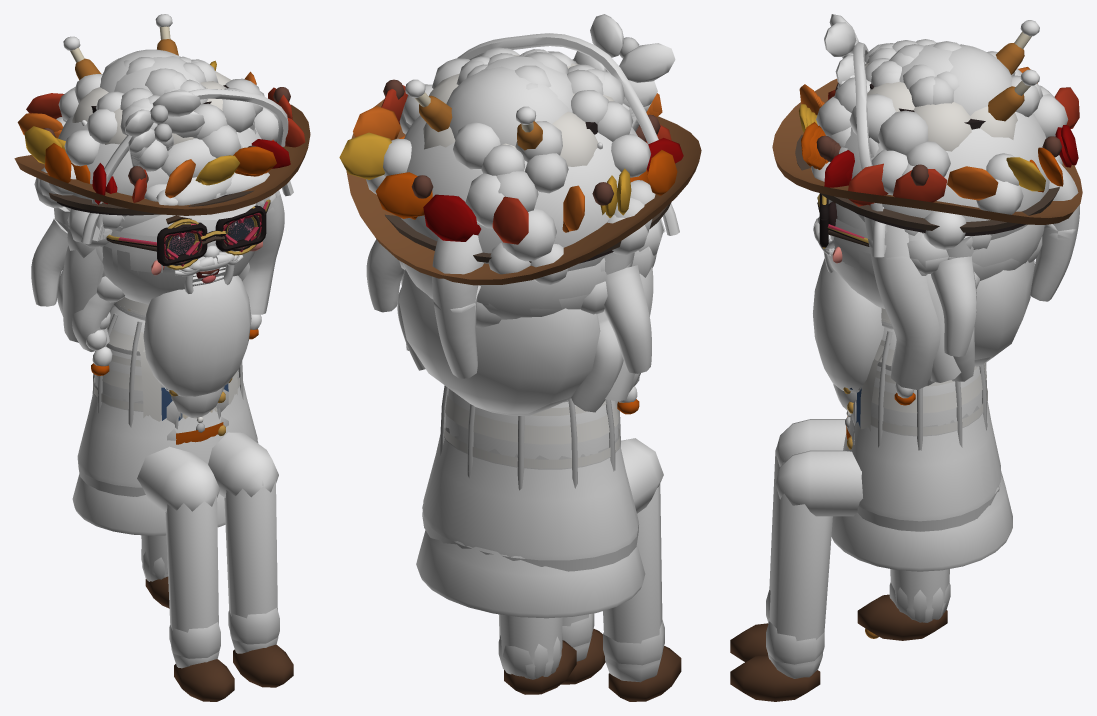
The model's file is avatar.glb.
The picture shows the model from 3 angles, left to right: view 1: azimuth 30°, elevation 25°; view 2: azimuth 150°, elevation 25°; view 3: azimuth 270°, elevation 25°; orthographic projection. The views are drawn at different scales.
Parts seen in each view (by area): view 1: legs_sit_pants, beard_long, hair_m_afro, body_dress, hat_leaves__m_afro, hat_cowboy, skirt, hat_bow__m_afro, hat_chef, body_apron, glasses_shades, hair_f_sideswept (+31 smaller); view 2: hair_m_afro, body_dress, hair_f_wavy, legs_sit_pants, skirt, hat_leaves__m_afro, hat_cowboy, hair_f_wavy_hat, hat_bow__m_afro, hair_f_puff, leg_pants, hat_chef (+20 smaller); view 3: legs_sit_pants, hair_m_afro, body_dress, beard_long, skirt, hat_leaves__m_afro, hat_cowboy, leg_pants, hair_f_sideswept, hat_chef, hair_f_wavy, hair_f_sideswept_hat (+23 smaller).
Boxes of the visible parts, box(x1,y1,x2,y2) form: legs_sit_pants: box(137, 432, 293, 701); beard_long: box(102, 246, 255, 417); hair_m_afro: box(34, 56, 278, 216); body_dress: box(77, 302, 257, 496); hat_leaves__m_afro: box(17, 60, 305, 204); hat_cowboy: box(14, 104, 310, 215); skirt: box(72, 474, 225, 535); hat_bow__m_afro: box(92, 88, 288, 231); hat_chef: box(72, 56, 231, 144); body_apron: box(93, 331, 240, 444); glasses_shades: box(157, 205, 266, 266); hair_f_sideswept: box(173, 172, 284, 314); hair_m_afro: box(366, 47, 655, 284); body_dress: box(422, 427, 638, 571); hair_f_wavy: box(397, 246, 656, 413); legs_sit_pants: box(561, 438, 681, 701); skirt: box(416, 530, 645, 618); hat_leaves__m_afro: box(339, 79, 683, 244); hat_cowboy: box(346, 99, 701, 285); hair_f_wavy_hat: box(397, 248, 655, 411); hat_bow__m_afro: box(457, 14, 675, 143); hair_f_puff: box(446, 66, 569, 146); leg_pants: box(498, 614, 576, 694); hat_chef: box(423, 55, 613, 170); legs_sit_pants: box(730, 419, 862, 701); hair_m_afro: box(816, 39, 1068, 249); body_dress: box(843, 321, 1002, 531); beard_long: box(813, 218, 884, 413); skirt: box(831, 471, 1012, 571); hat_leaves__m_afro: box(816, 67, 1079, 206); hat_cowboy: box(772, 78, 1082, 224); leg_pants: box(857, 569, 950, 640); hair_f_sideswept: box(864, 216, 941, 389); hat_chef: box(865, 43, 1017, 151); hair_f_wavy: box(908, 232, 1034, 385); hair_f_sideswept_hat: box(868, 239, 940, 389).
Bounding box in the file's own units: 0.6633 × 1.42 × 0.7061.
